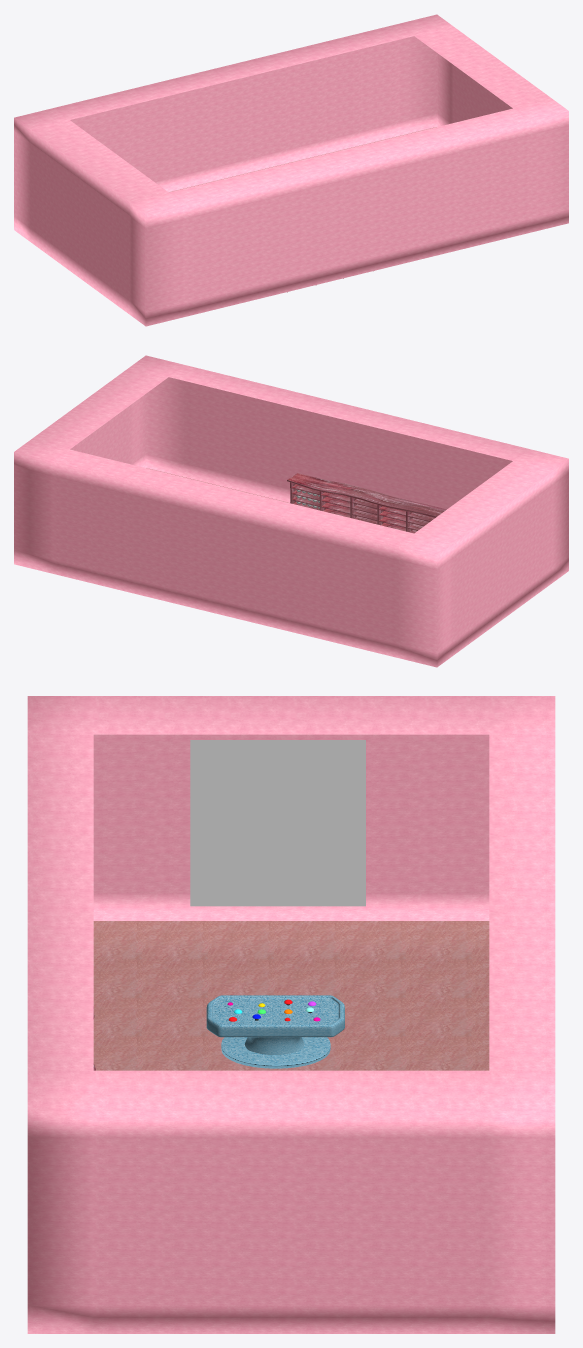
File: golovolomka_v01042026.glb
3 renders of one model, top to bottom at view 1: azimuth 30°, elevation 25°; view 2: azimuth 150°, elevation 25°; view 3: azimuth 270°, elevation 25°, orthographic. The views are drawn at different scales.
Parts seen in each view (by area): view 1: Cube.020; view 2: Cube.020, Cube; view 3: Cube.020, Erkan, Cylinder, Plane.
Boxes of the visible parts, <box> form: Cube.020: <box>14,14,568,326</box>; Cube.020: <box>14,355,568,667</box>; Cube: <box>287,473,446,533</box>; Cube.020: <box>27,696,555,1333</box>; Erkan: <box>190,740,365,906</box>; Cylinder: <box>206,995,344,1068</box>; Plane: <box>214,999,337,1024</box>.
Bounding box in the file's own units: 21.29 × 6.46 × 11.5.
Materials: 21 (6 with a texture image).
